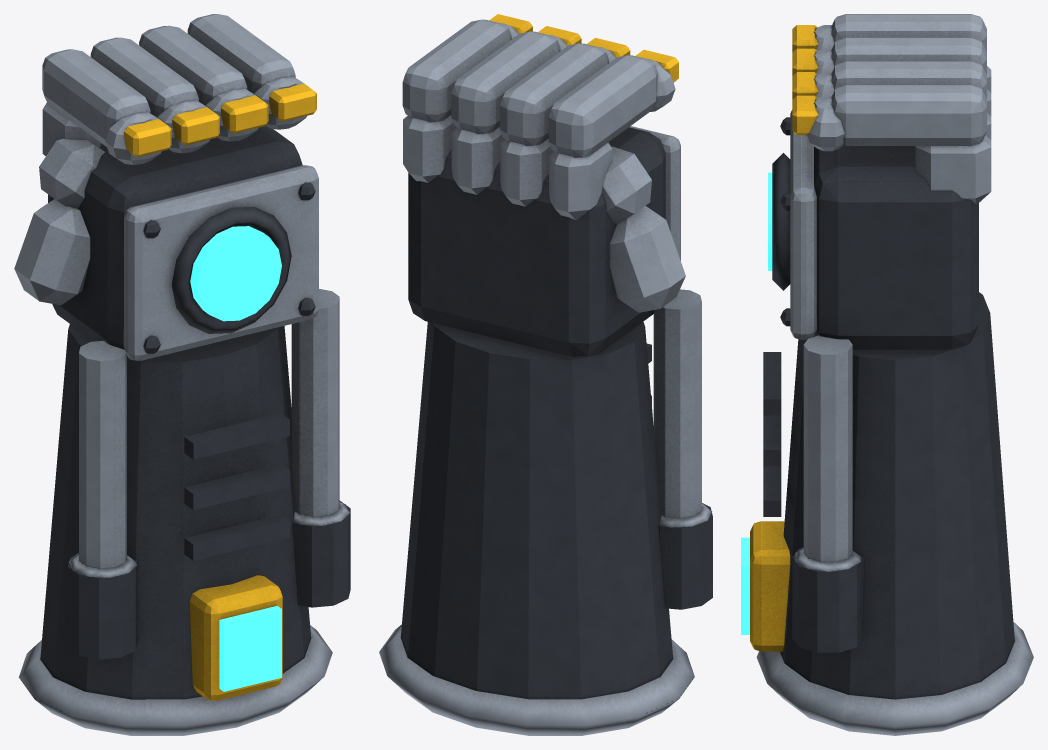
File: 11_mechanical_gauntlet.fbx
3 views of the same model, side by side, from view 1: azimuth 30°, elevation 25°; view 2: azimuth 150°, elevation 25°; view 3: azimuth 270°, elevation 25° (orthographic).
Parts seen in each view (by area): view 1: Weapon; view 2: Weapon; view 3: Weapon.
Part boxes in pixels (x1,y1,x2,y2): Weapon: [14, 14, 350, 735]; Weapon: [379, 14, 712, 735]; Weapon: [741, 14, 1033, 735].
Bounding box in the file's own units: 24.46 × 50.4 × 21.51.
Materials: 2 (1 with a texture image).
